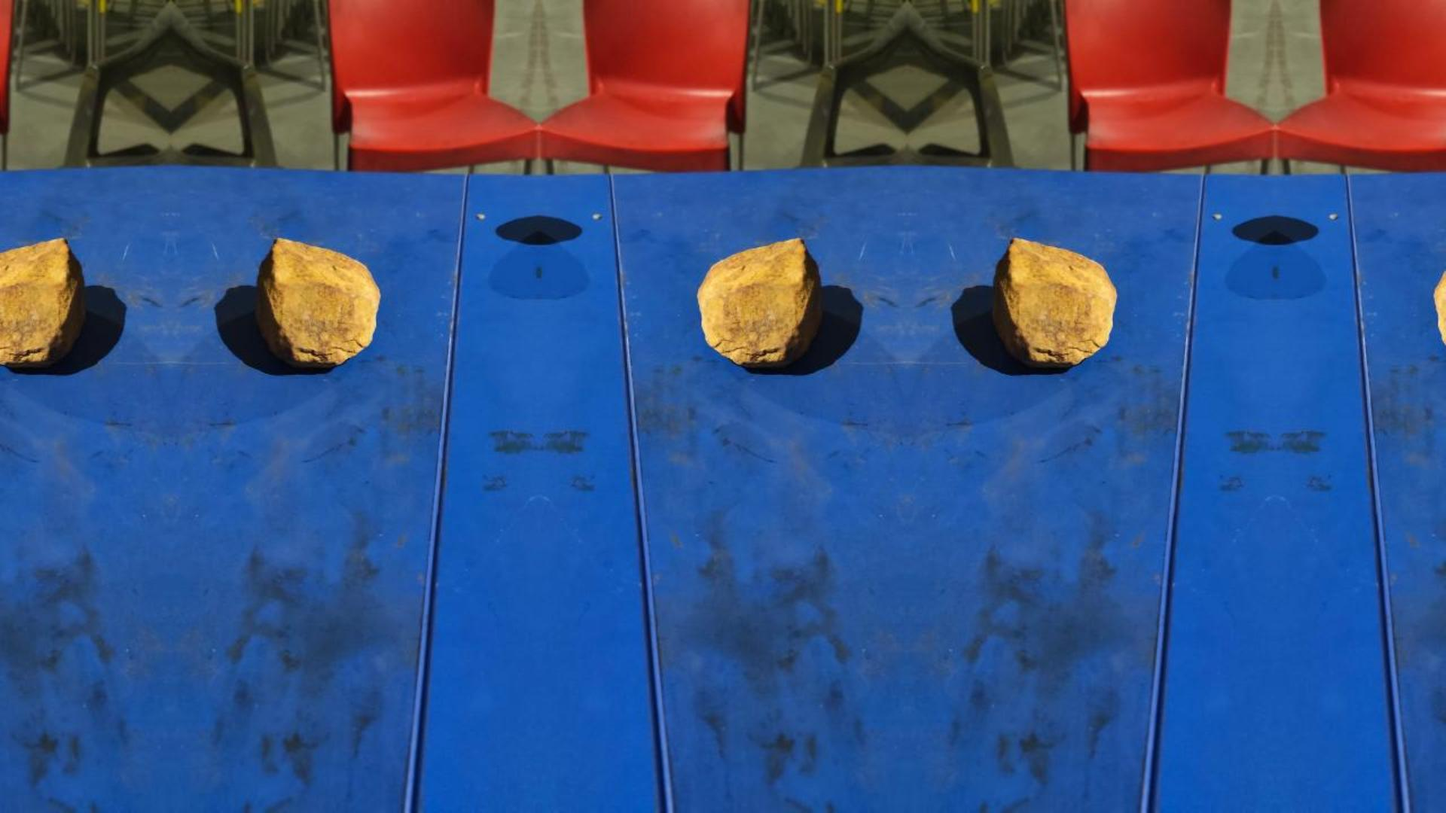rock: (697, 238, 821, 366), (256, 238, 380, 366), (993, 238, 1115, 366), (0, 238, 85, 365), (1434, 271, 1445, 343)
